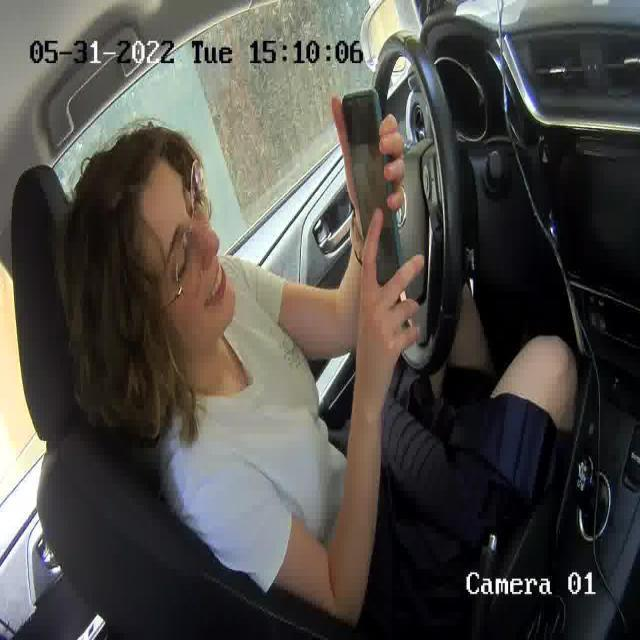Eye-Close: (174, 247, 192, 279), (186, 198, 202, 221)
Inattentive: (76, 127, 238, 351)
Normal: (203, 262, 231, 309)
